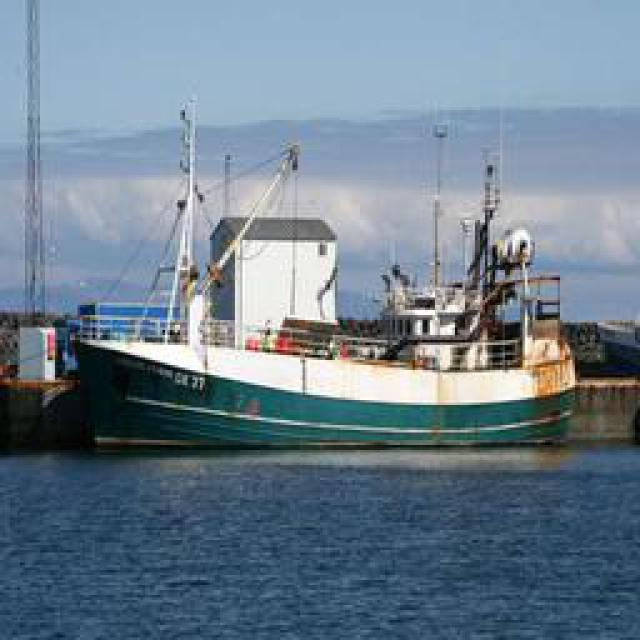Ship: (75, 89, 580, 449)
